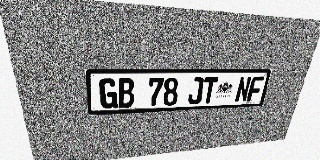7: (147, 78, 164, 107)
8: (163, 77, 180, 106)
B: (117, 78, 134, 108)
F: (246, 76, 264, 102)
G: (99, 78, 117, 109)
J: (187, 77, 204, 105)
N: (234, 77, 252, 102)
T: (201, 77, 218, 104)
